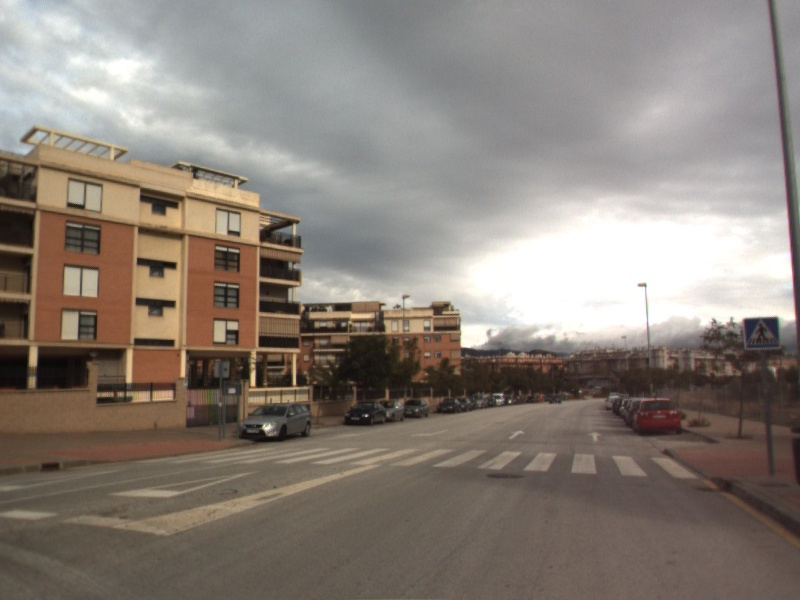STRAIGHT: (506, 428, 527, 441), (586, 429, 605, 443)
